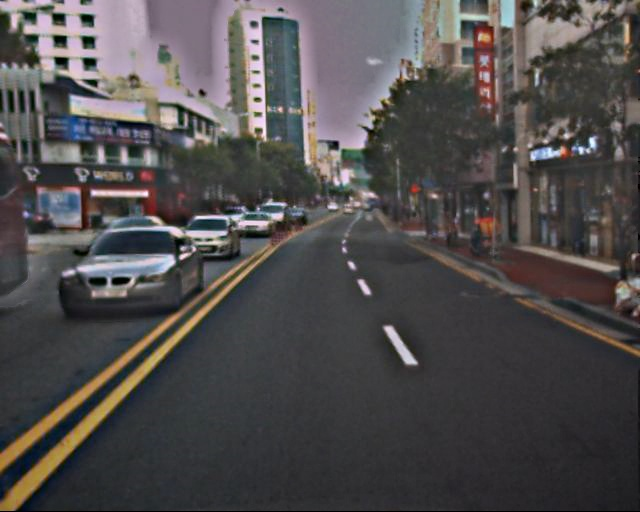person: (562, 203, 590, 263)
